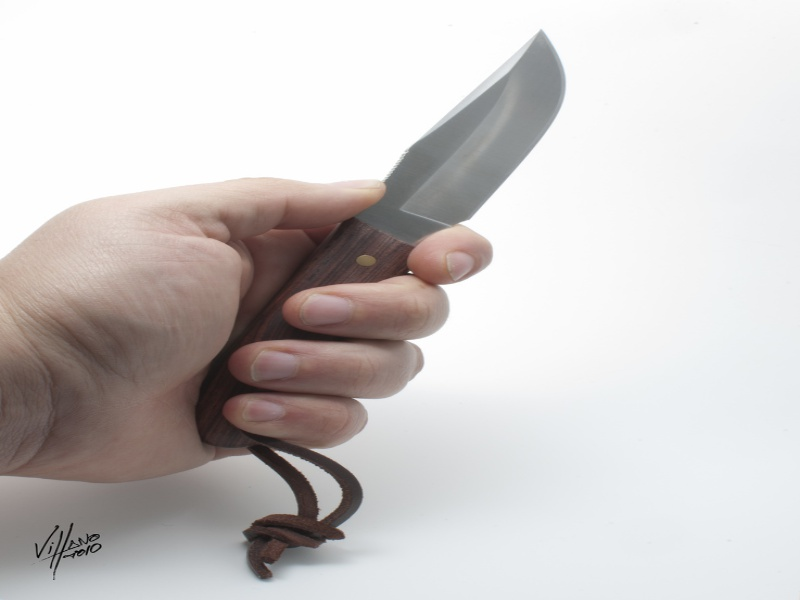knife: (187, 27, 567, 452)
